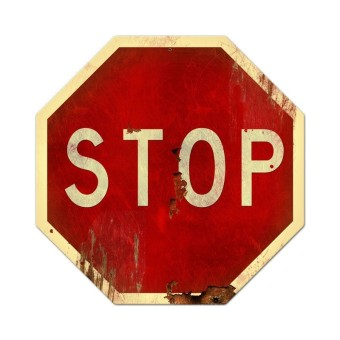SS: (32, 24, 306, 316)
